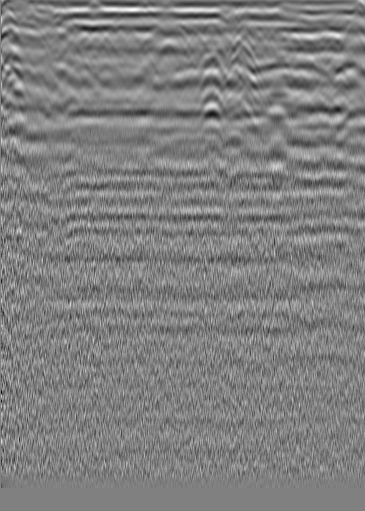가스: (216, 132, 253, 162)
상수: (316, 29, 336, 49)
오수: (24, 10, 44, 30)
우수: (170, 20, 190, 40)
